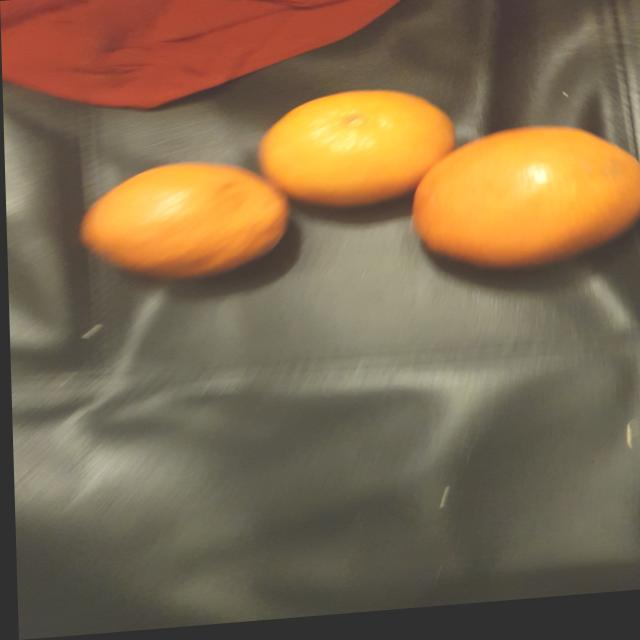Orange: (412, 134, 640, 276), (81, 163, 291, 286), (257, 94, 456, 213)
